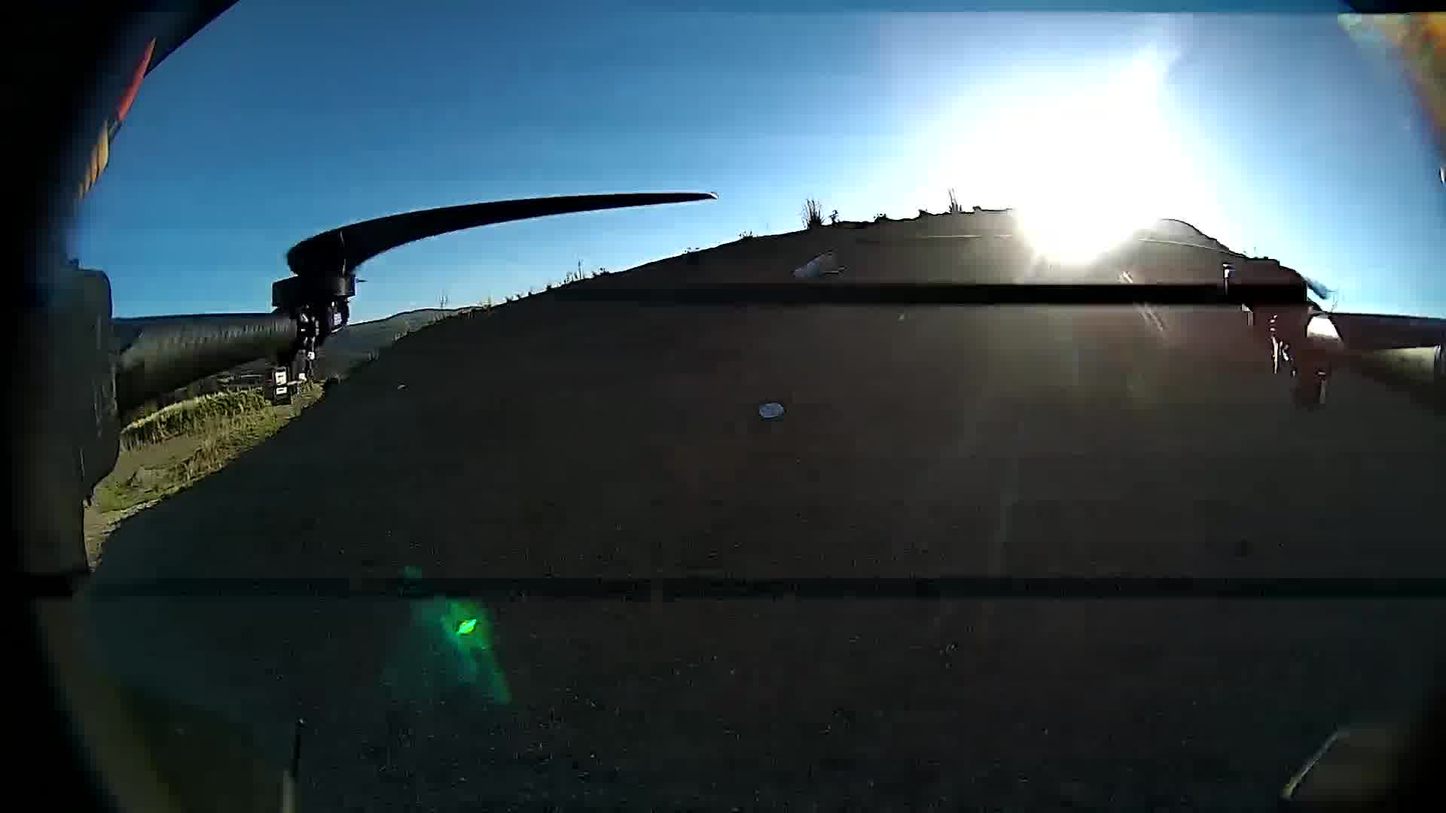Target: (756, 400, 790, 419)
